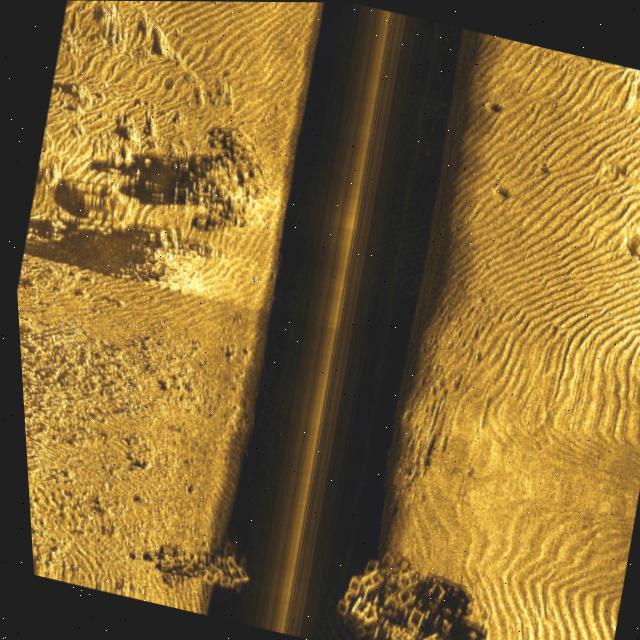artificial reef: (304, 527, 465, 640), (138, 513, 261, 603)
